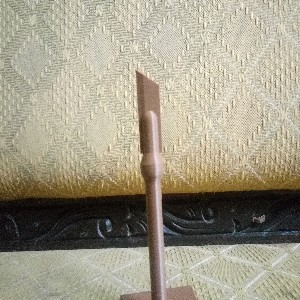cutter: (134, 68, 168, 300)
